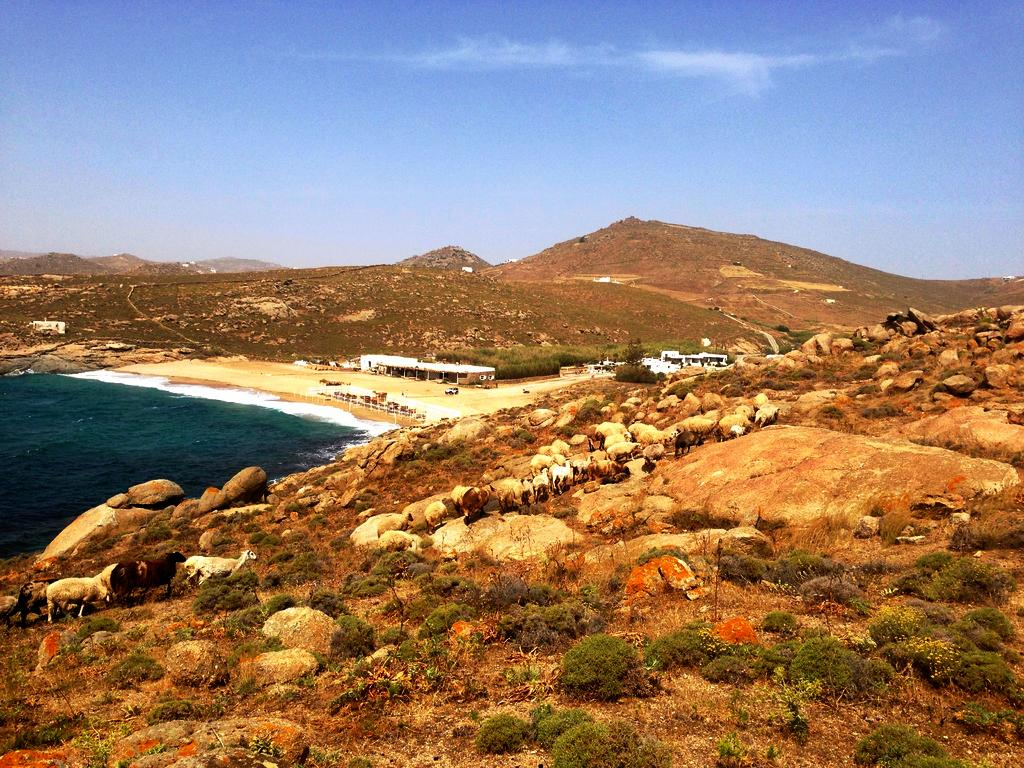Sheep: (44, 562, 122, 623), (108, 549, 186, 599), (182, 549, 256, 591), (6, 579, 54, 624), (94, 562, 124, 602), (495, 477, 531, 509), (463, 485, 490, 527), (376, 513, 415, 542), (681, 415, 718, 445), (376, 529, 418, 555), (529, 451, 568, 478), (590, 421, 629, 446), (637, 425, 675, 450), (423, 500, 448, 535), (673, 429, 702, 457), (640, 442, 669, 468), (608, 441, 643, 462), (0, 595, 20, 629), (590, 459, 630, 476), (727, 408, 753, 433), (552, 462, 571, 494), (754, 406, 780, 427), (59, 600, 87, 619), (533, 472, 550, 502), (0, 590, 18, 616), (570, 459, 588, 485), (549, 439, 572, 459), (702, 409, 724, 429), (585, 430, 604, 452), (452, 485, 465, 515), (1004, 409, 1024, 426), (729, 424, 746, 440)
